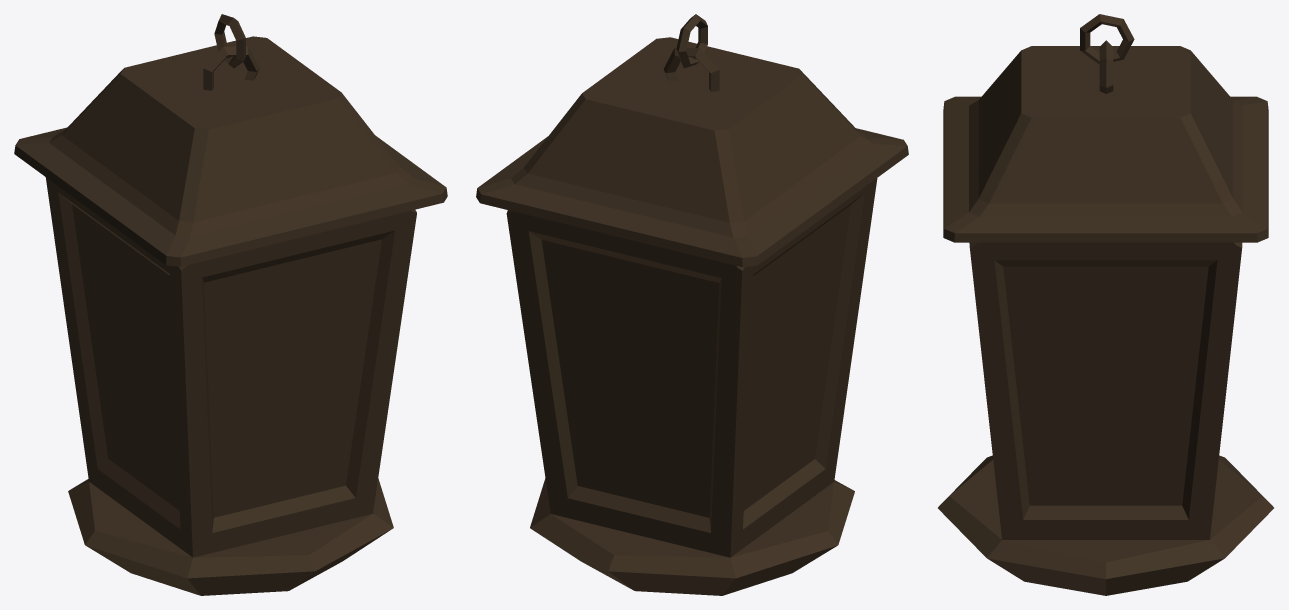
File: Lantern #1 (uncolored)).fbx
3 views of the same model, side by side, from view 1: azimuth 30°, elevation 25°; view 2: azimuth 150°, elevation 25°; view 3: azimuth 270°, elevation 25° (orthographic).
Visible parts, largest first — view 1: Torus.001; view 2: Torus.001; view 3: Torus.001.
Part boxes in pixels (box(x1,y1,x2,y2)): Torus.001: box(14, 14, 447, 595); Torus.001: box(476, 14, 908, 595); Torus.001: box(938, 14, 1273, 595).
Bounding box in the file's own units: 191 × 332 × 191.
